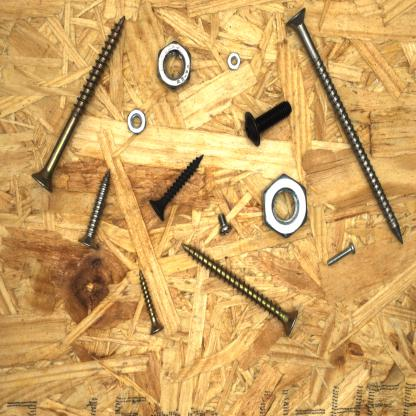screw: (283, 5, 406, 247), (29, 10, 128, 196), (179, 238, 300, 338), (144, 150, 207, 224), (76, 166, 113, 252), (242, 96, 294, 149), (136, 264, 166, 338), (324, 238, 358, 270), (214, 210, 235, 240)
